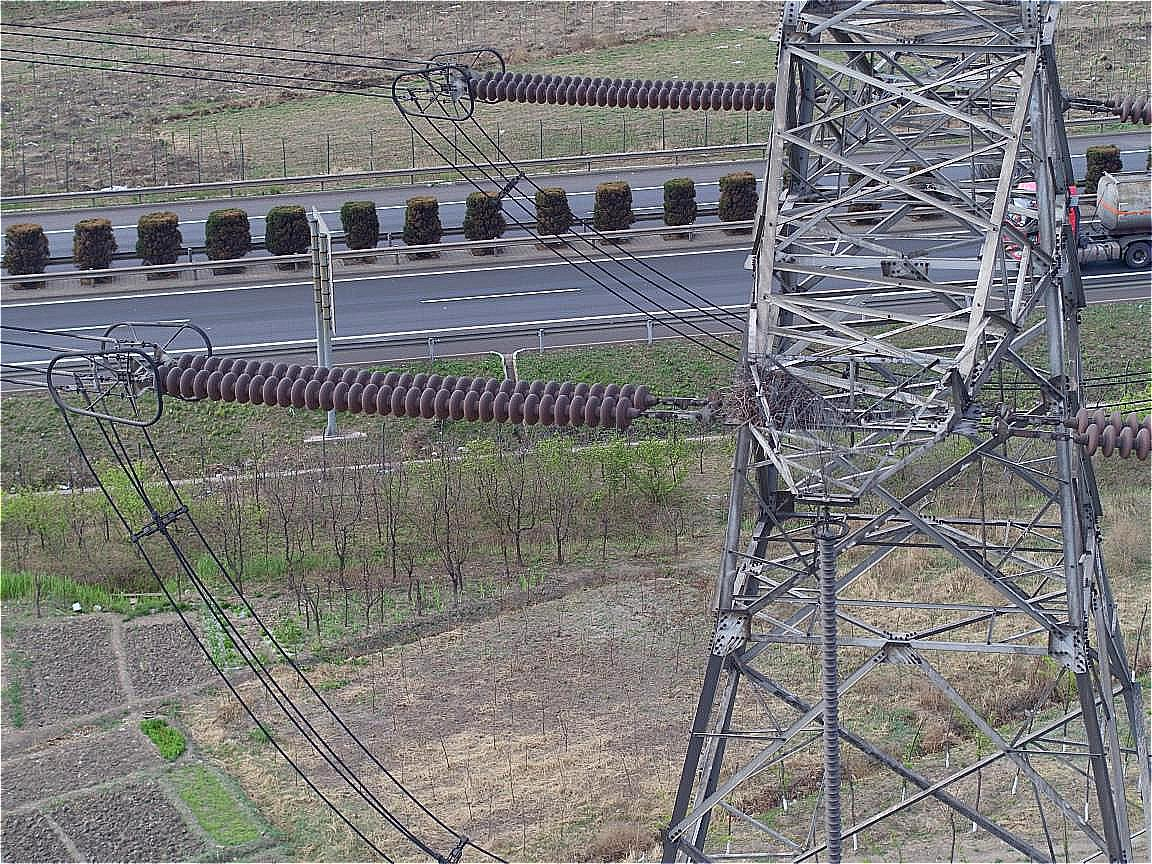insultor1: (154, 354, 651, 431), (469, 70, 775, 114)
